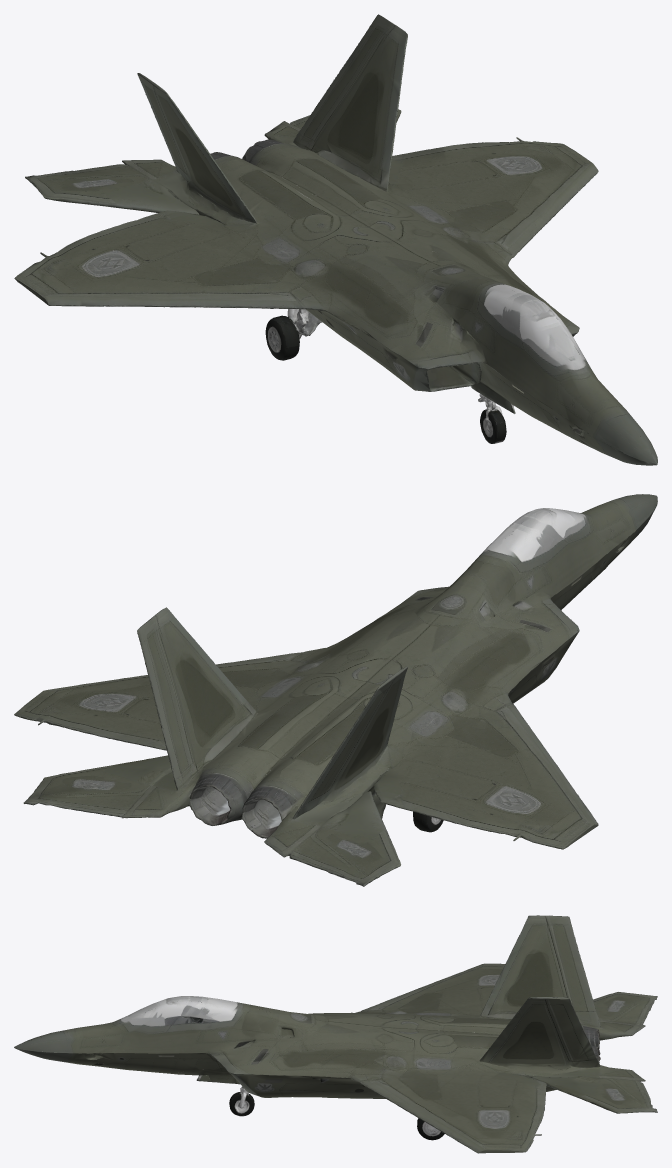
The model's file is military-jet.glb.
3 renders of one model, top to bottom at view 1: azimuth 30°, elevation 25°; view 2: azimuth 150°, elevation 25°; view 3: azimuth 270°, elevation 25°, orthographic. The views are drawn at different scales.
Visible parts, largest first — view 1: jet; view 2: jet; view 3: jet.
Boxes of the visible parts, x1,y1,x2,y2 form: jet: (14,14,657,465); jet: (14,494,657,886); jet: (14,915,657,1153).
Bounding box in the file's own units: 13.05 × 5.18 × 19.
1 material, 1 textured.
